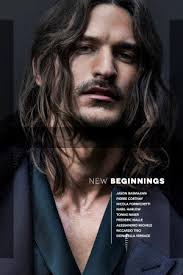middle_eastern_male: (64, 11, 152, 147)
